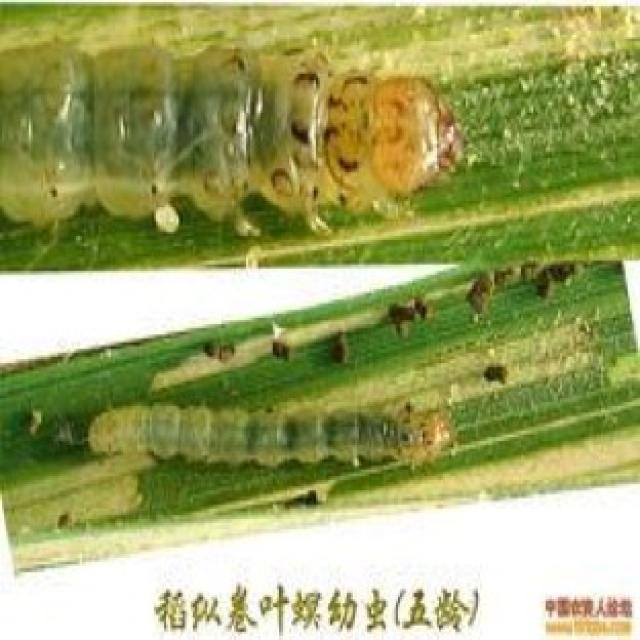rice leaf roller: (0, 47, 462, 236), (88, 398, 449, 464), (466, 263, 574, 320), (377, 295, 429, 336), (201, 341, 238, 363), (271, 322, 289, 359), (328, 330, 347, 361), (482, 363, 507, 384), (23, 408, 41, 433)
